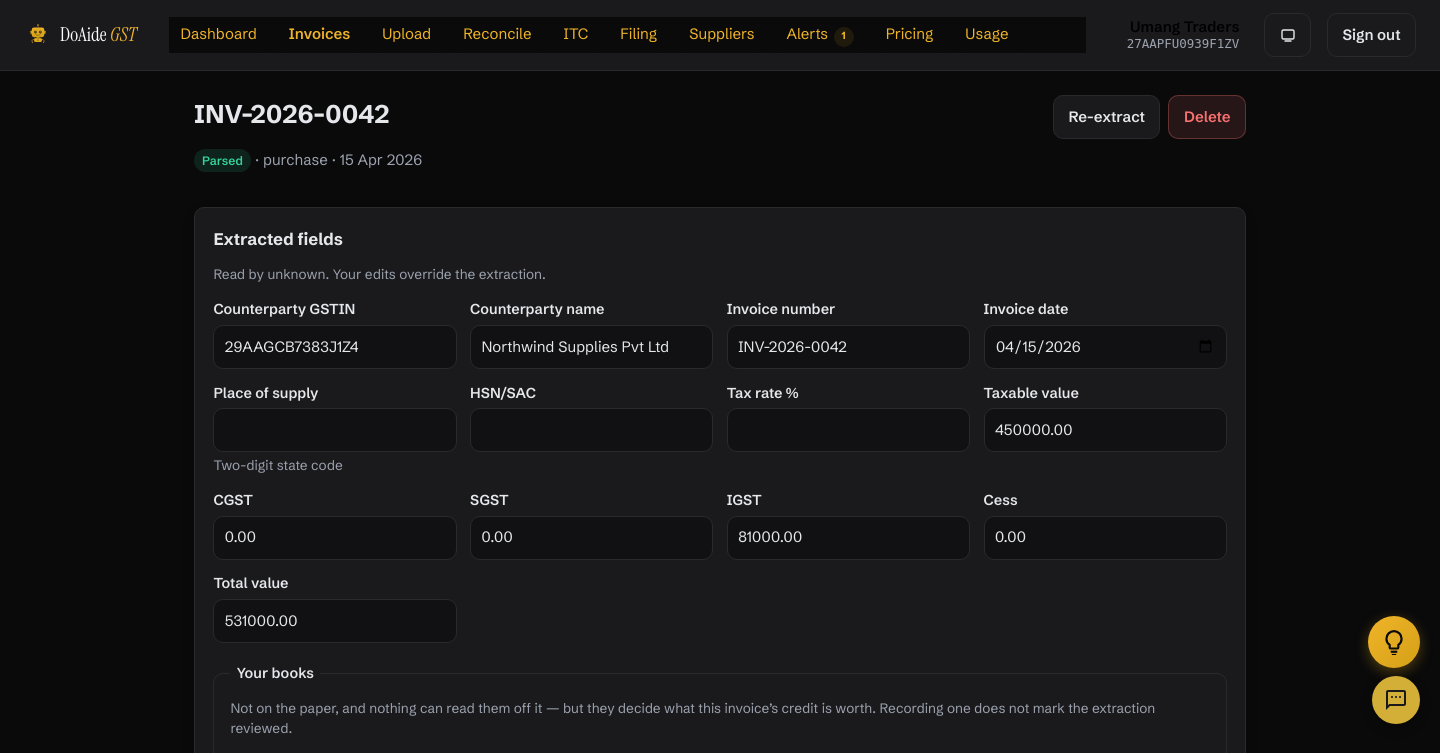
it: the invoice screen, which has two banners and only closes one › closes the refusal an action came back with
Click the button "Re-extract".
click(1107, 117)  # box left=1053, top=95, right=1160, bottom=139
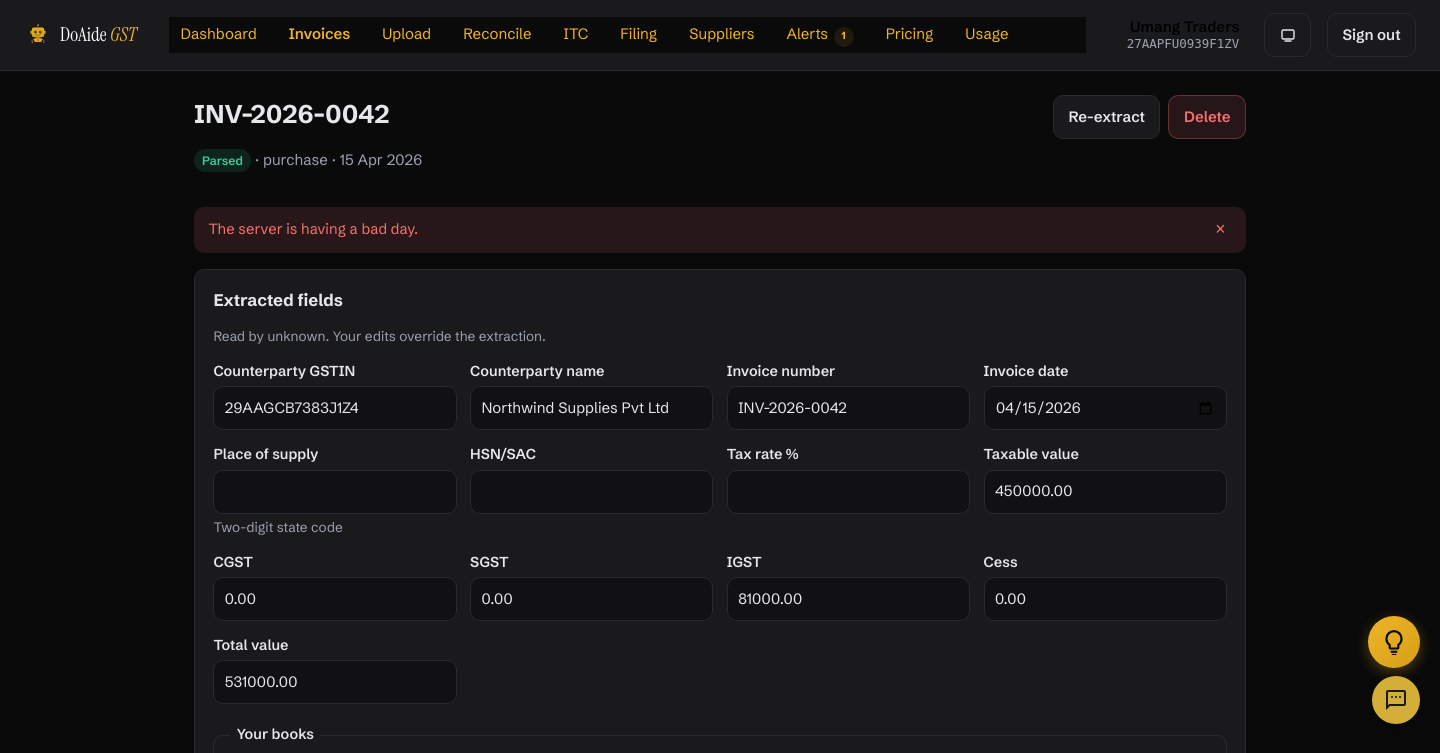
Click the button named "Dismiss".
click(1220, 230)  # box left=1209, top=218, right=1232, bottom=241
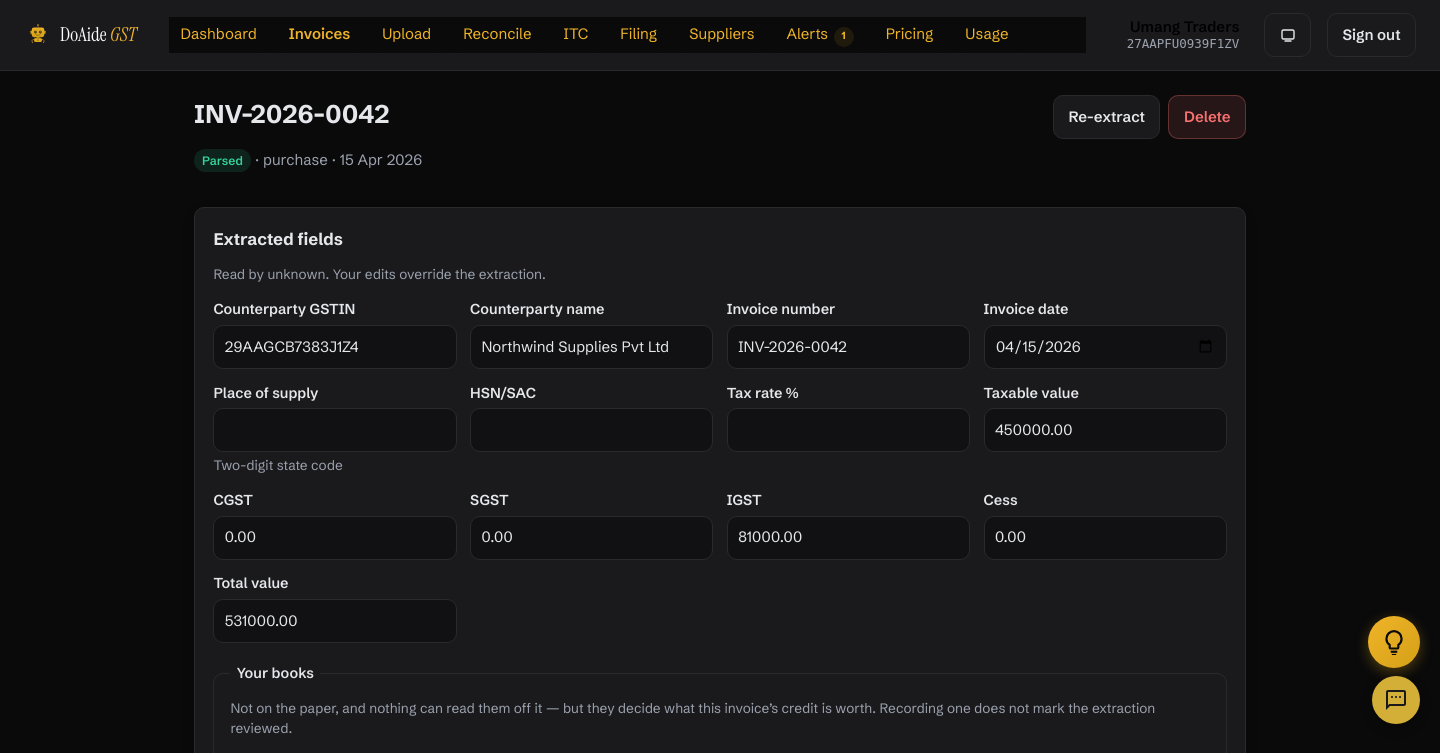
Expected: the button "Re-extract" is shown, left=1053, top=95, right=1160, bottom=139
Expected: the message "The server is having a bad day. ×" is gone
